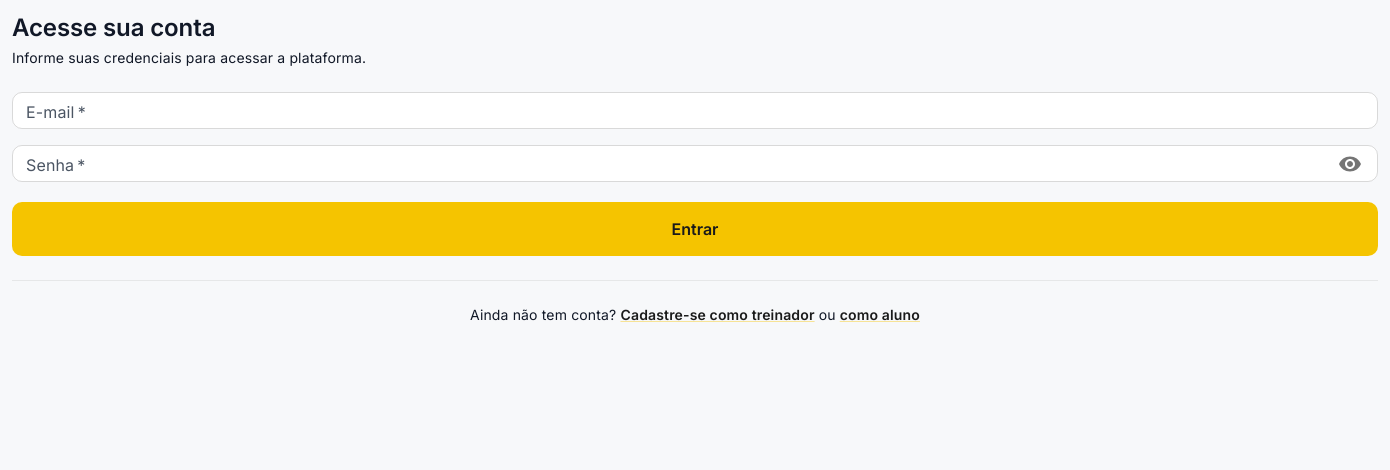
Scenario: /login — segunda etapa MFA › código inválido exibe o erro mapeado do backend
Type "u@u.com" into the field labelled "E-mail *".
click(695, 111); type("u@u.com")  # box [12, 92, 1378, 129]
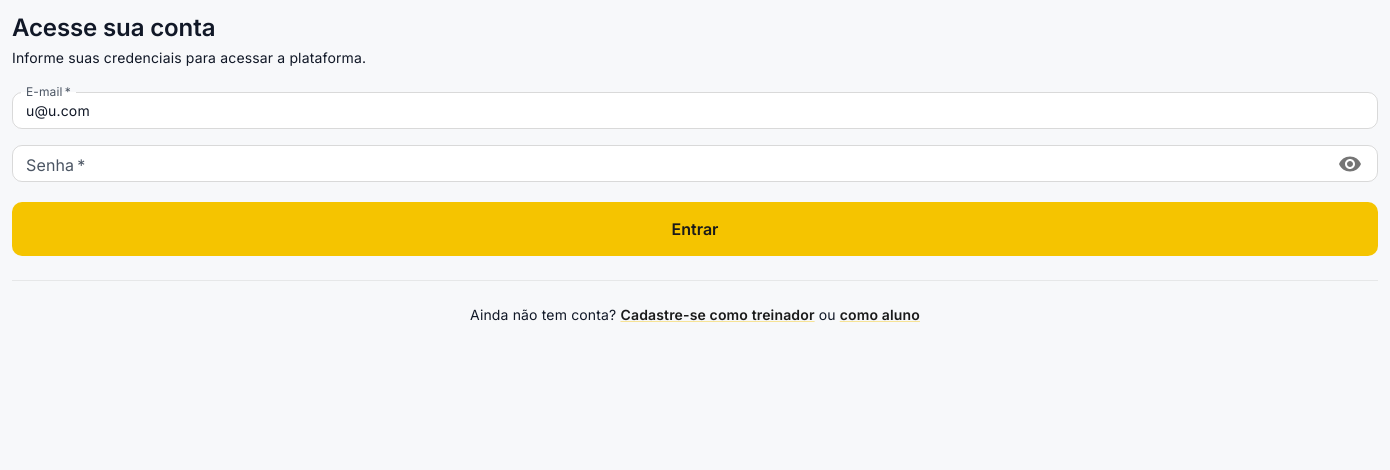
Type "senha123" into the password field labelled "Senha *".
click(668, 164); type("senha123")  # box [12, 145, 1325, 182]
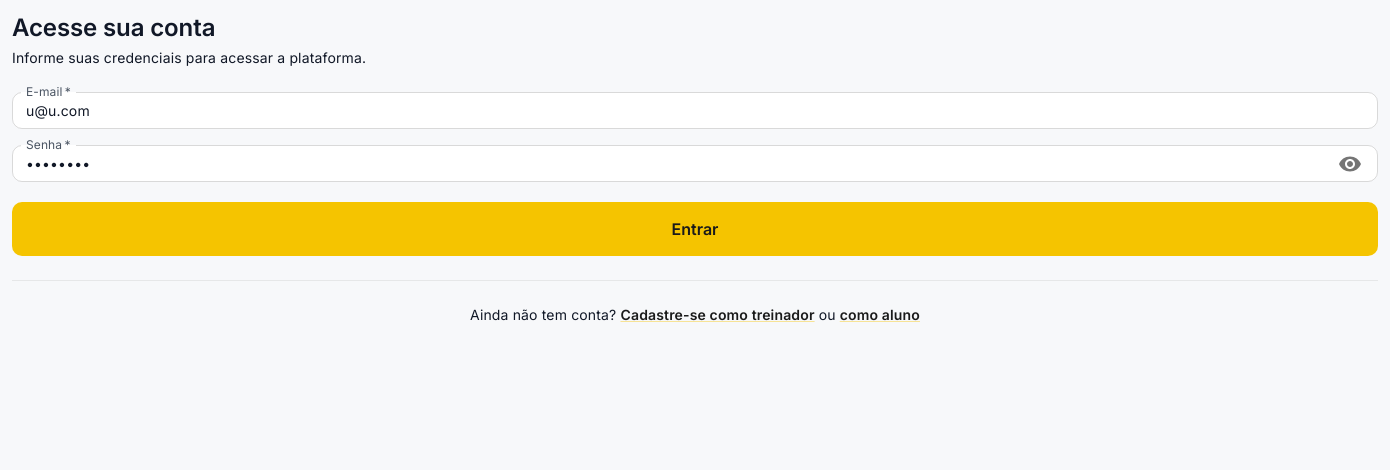
Click the button "Entrar".
click(695, 229)  # box [12, 202, 1378, 256]
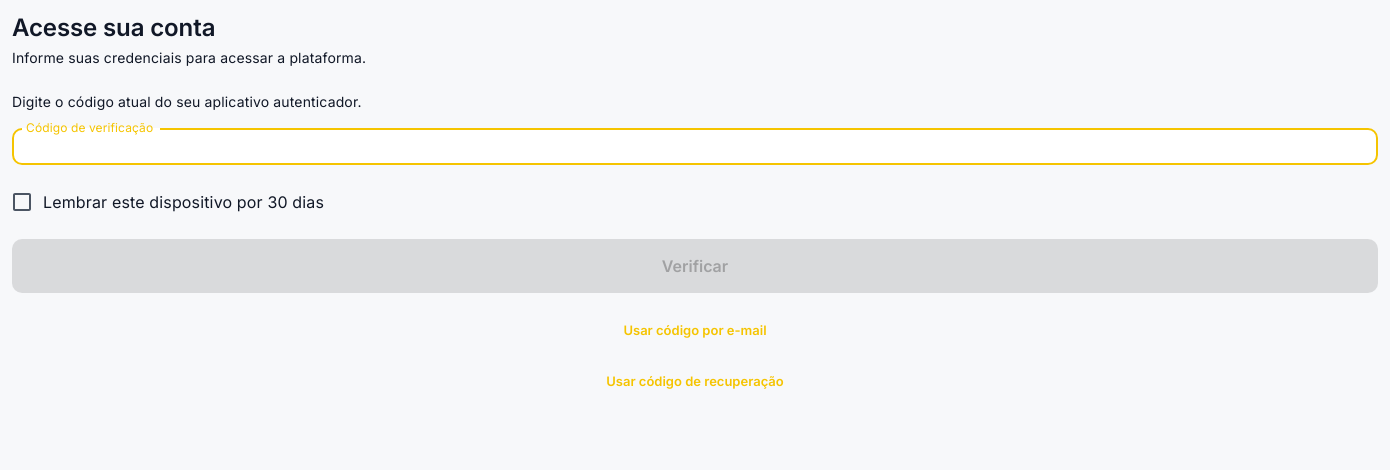
Type "000000" into the field labelled "Código de verificação".
click(695, 147); type("000000")  # box [12, 128, 1378, 165]
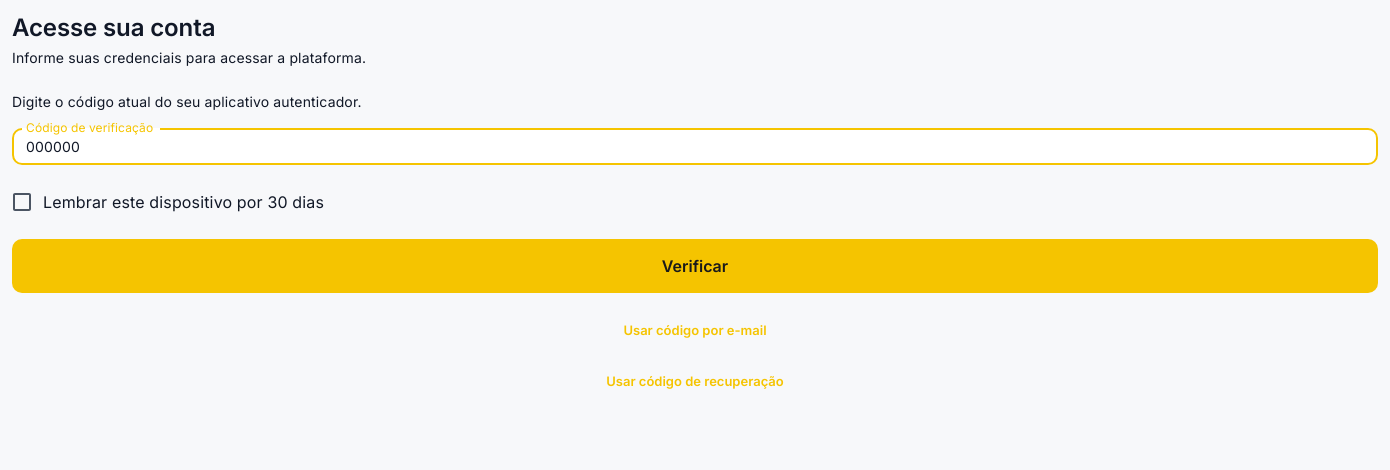
Click the button "Verificar".
click(695, 266)  # box [12, 239, 1378, 293]
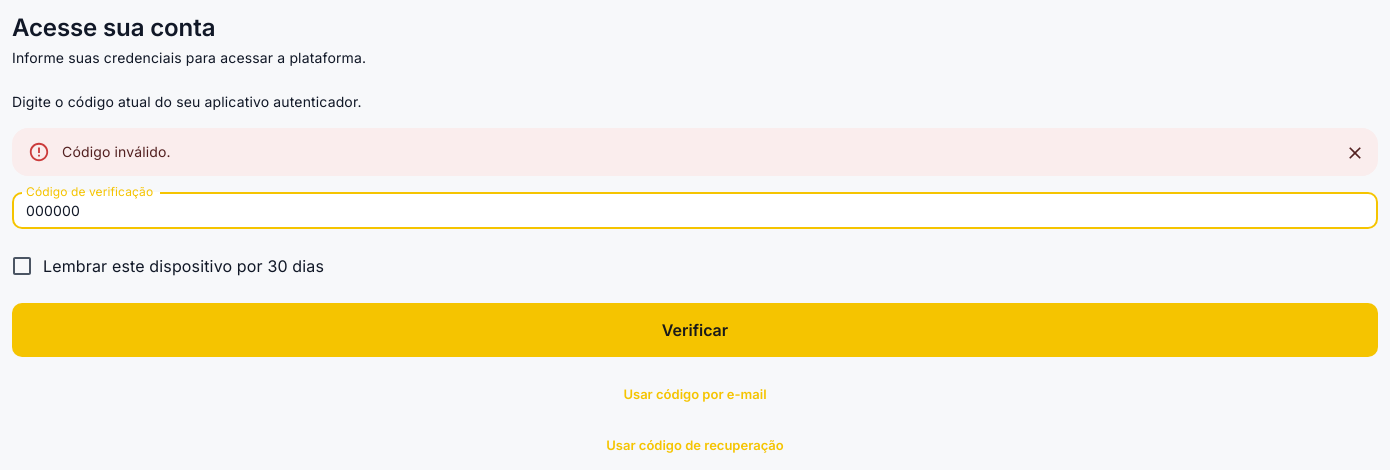
Result: the text "Código inválido." is shown at [62, 143, 171, 160]
